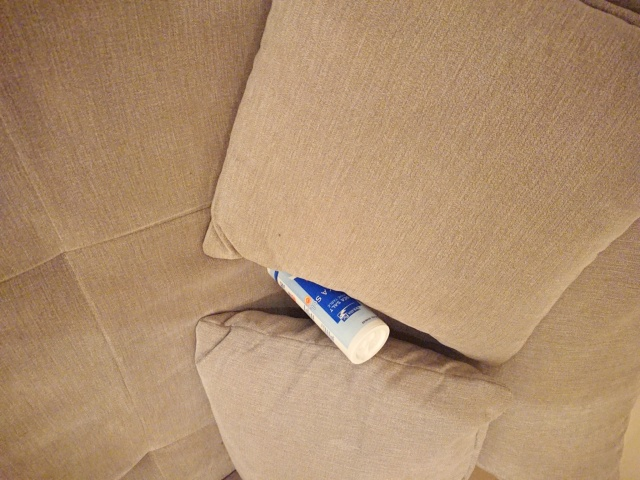Solana Pag Fine Sea Salt 250g: (264, 241, 393, 367)
